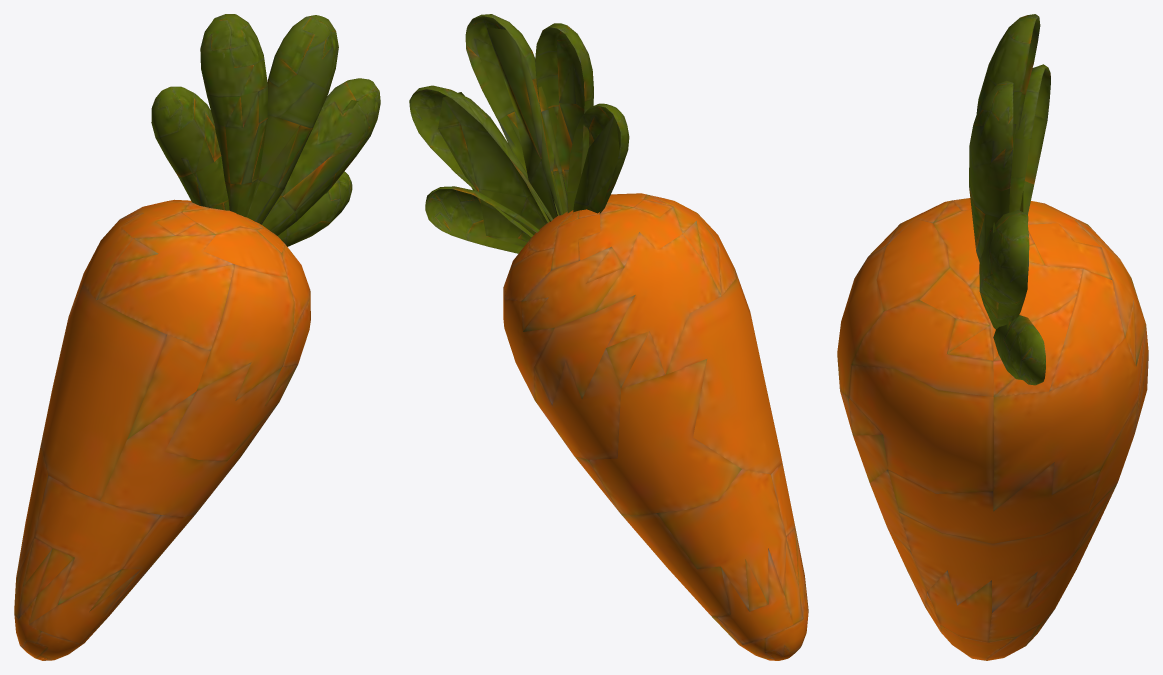
The model's file is carrot.glb.
The picture shows the model from 3 angles, left to right: view 1: azimuth 30°, elevation 25°; view 2: azimuth 150°, elevation 25°; view 3: azimuth 270°, elevation 25°; orthographic projection. The views are drawn at different scales.
Visible parts, largest first — view 1: geometry_0; view 2: geometry_0; view 3: geometry_0.
Part boxes in pixels (x1=…): geometry_0: x1=14, y1=14, x2=380, y2=660; geometry_0: x1=409, y1=14, x2=808, y2=660; geometry_0: x1=837, y1=14, x2=1148, y2=660.
Size of the model in its own units: 0.67 by 1 by 0.3715.
Materials: 1 (1 with a texture image).
